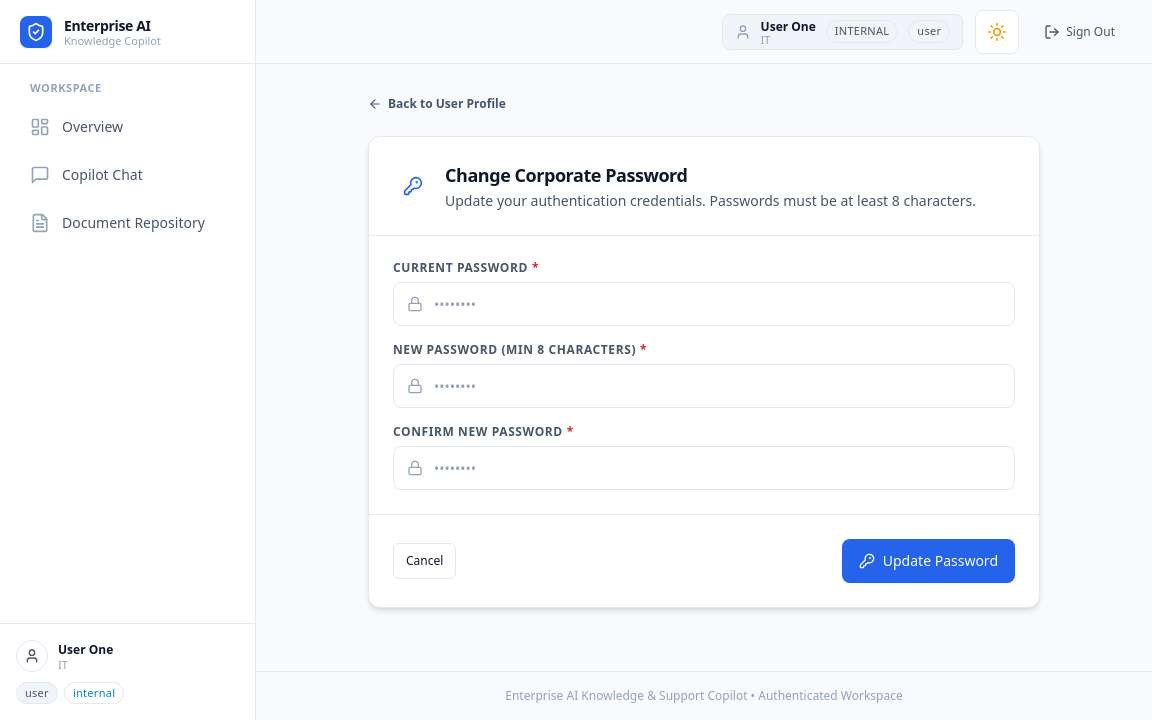
Test: ChangePasswordPage Integration Tests › 3. Successfully submits valid password change and displays success feedback
In the password field labelled "Current Password*": (704, 304) [393,282,1015,326], type "CurrentPassword123!"
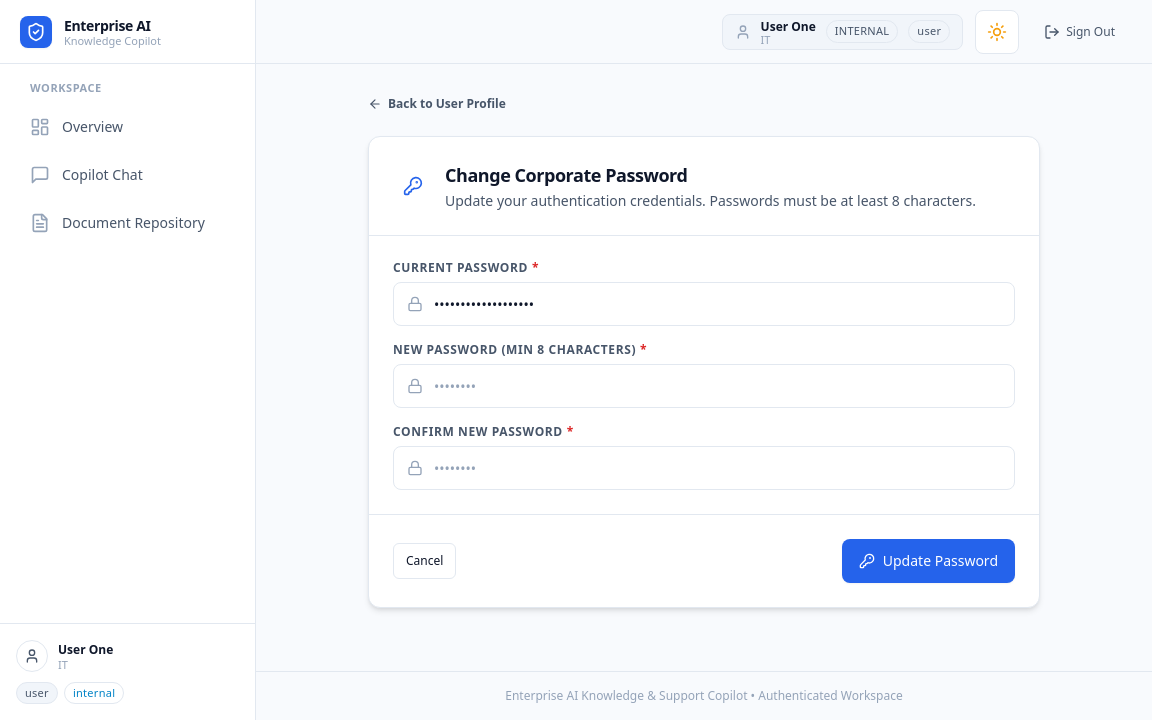
In the password field labelled "New Password (min 8 characters)*": (704, 386) [393,364,1015,408], type "BrandNewSecurePassword123!"
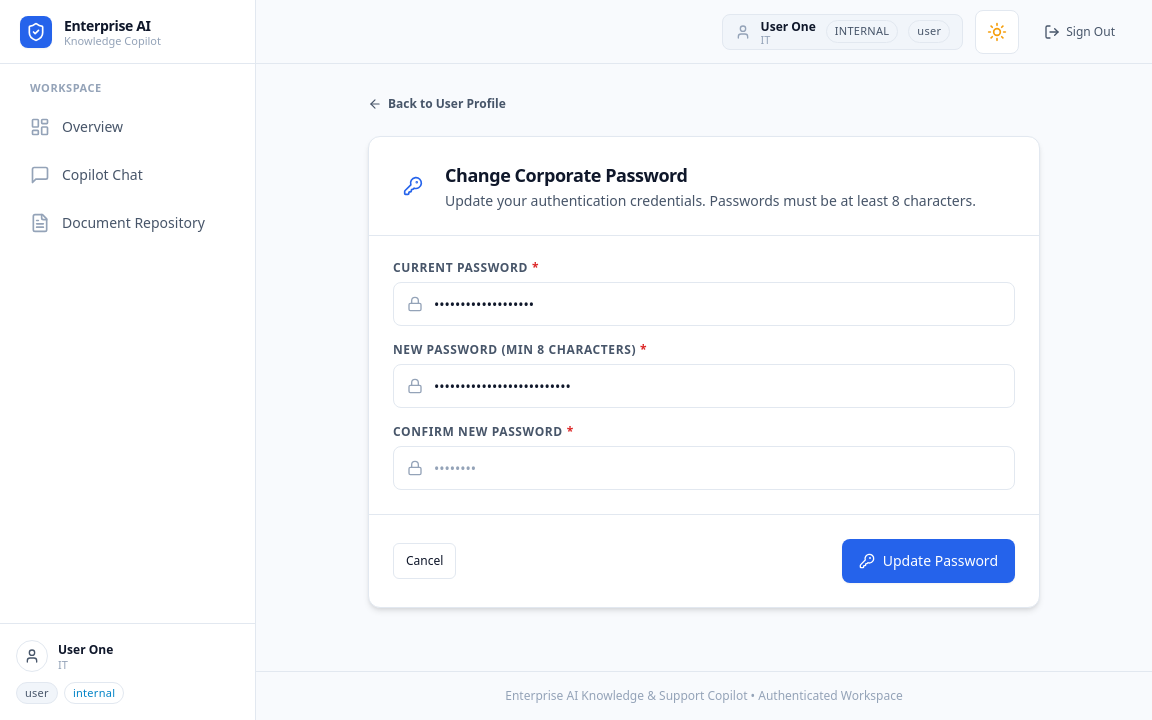
In the password field labelled "Confirm New Password*": (704, 468) [393,446,1015,490], type "BrandNewSecurePassword123!"
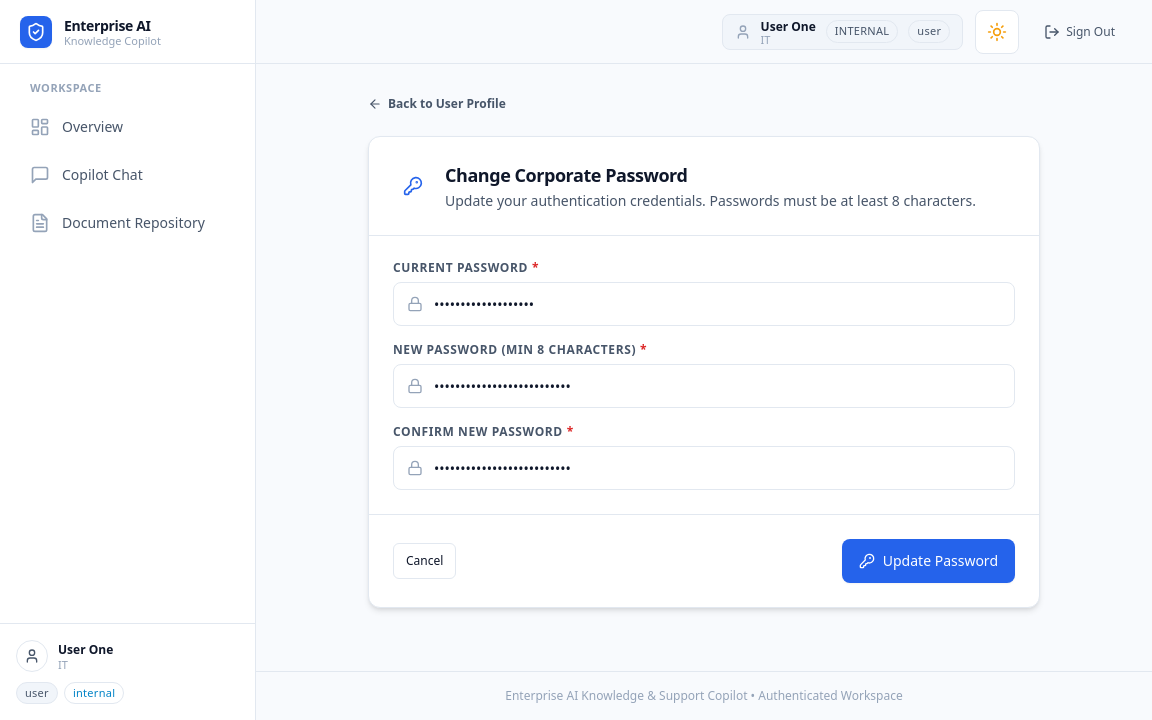
Click the button "Update Password": (928, 561) [842,539,1015,583]
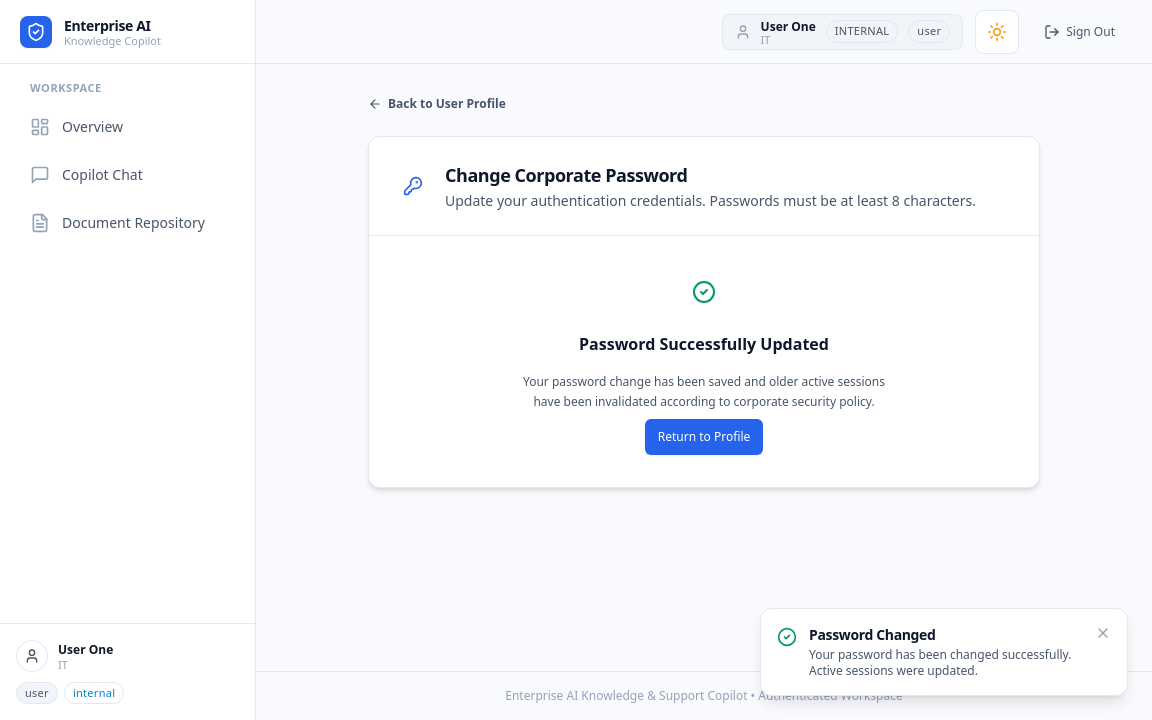
Expected: the heading "Password Successfully Updated" is shown, [579,333,829,355]
